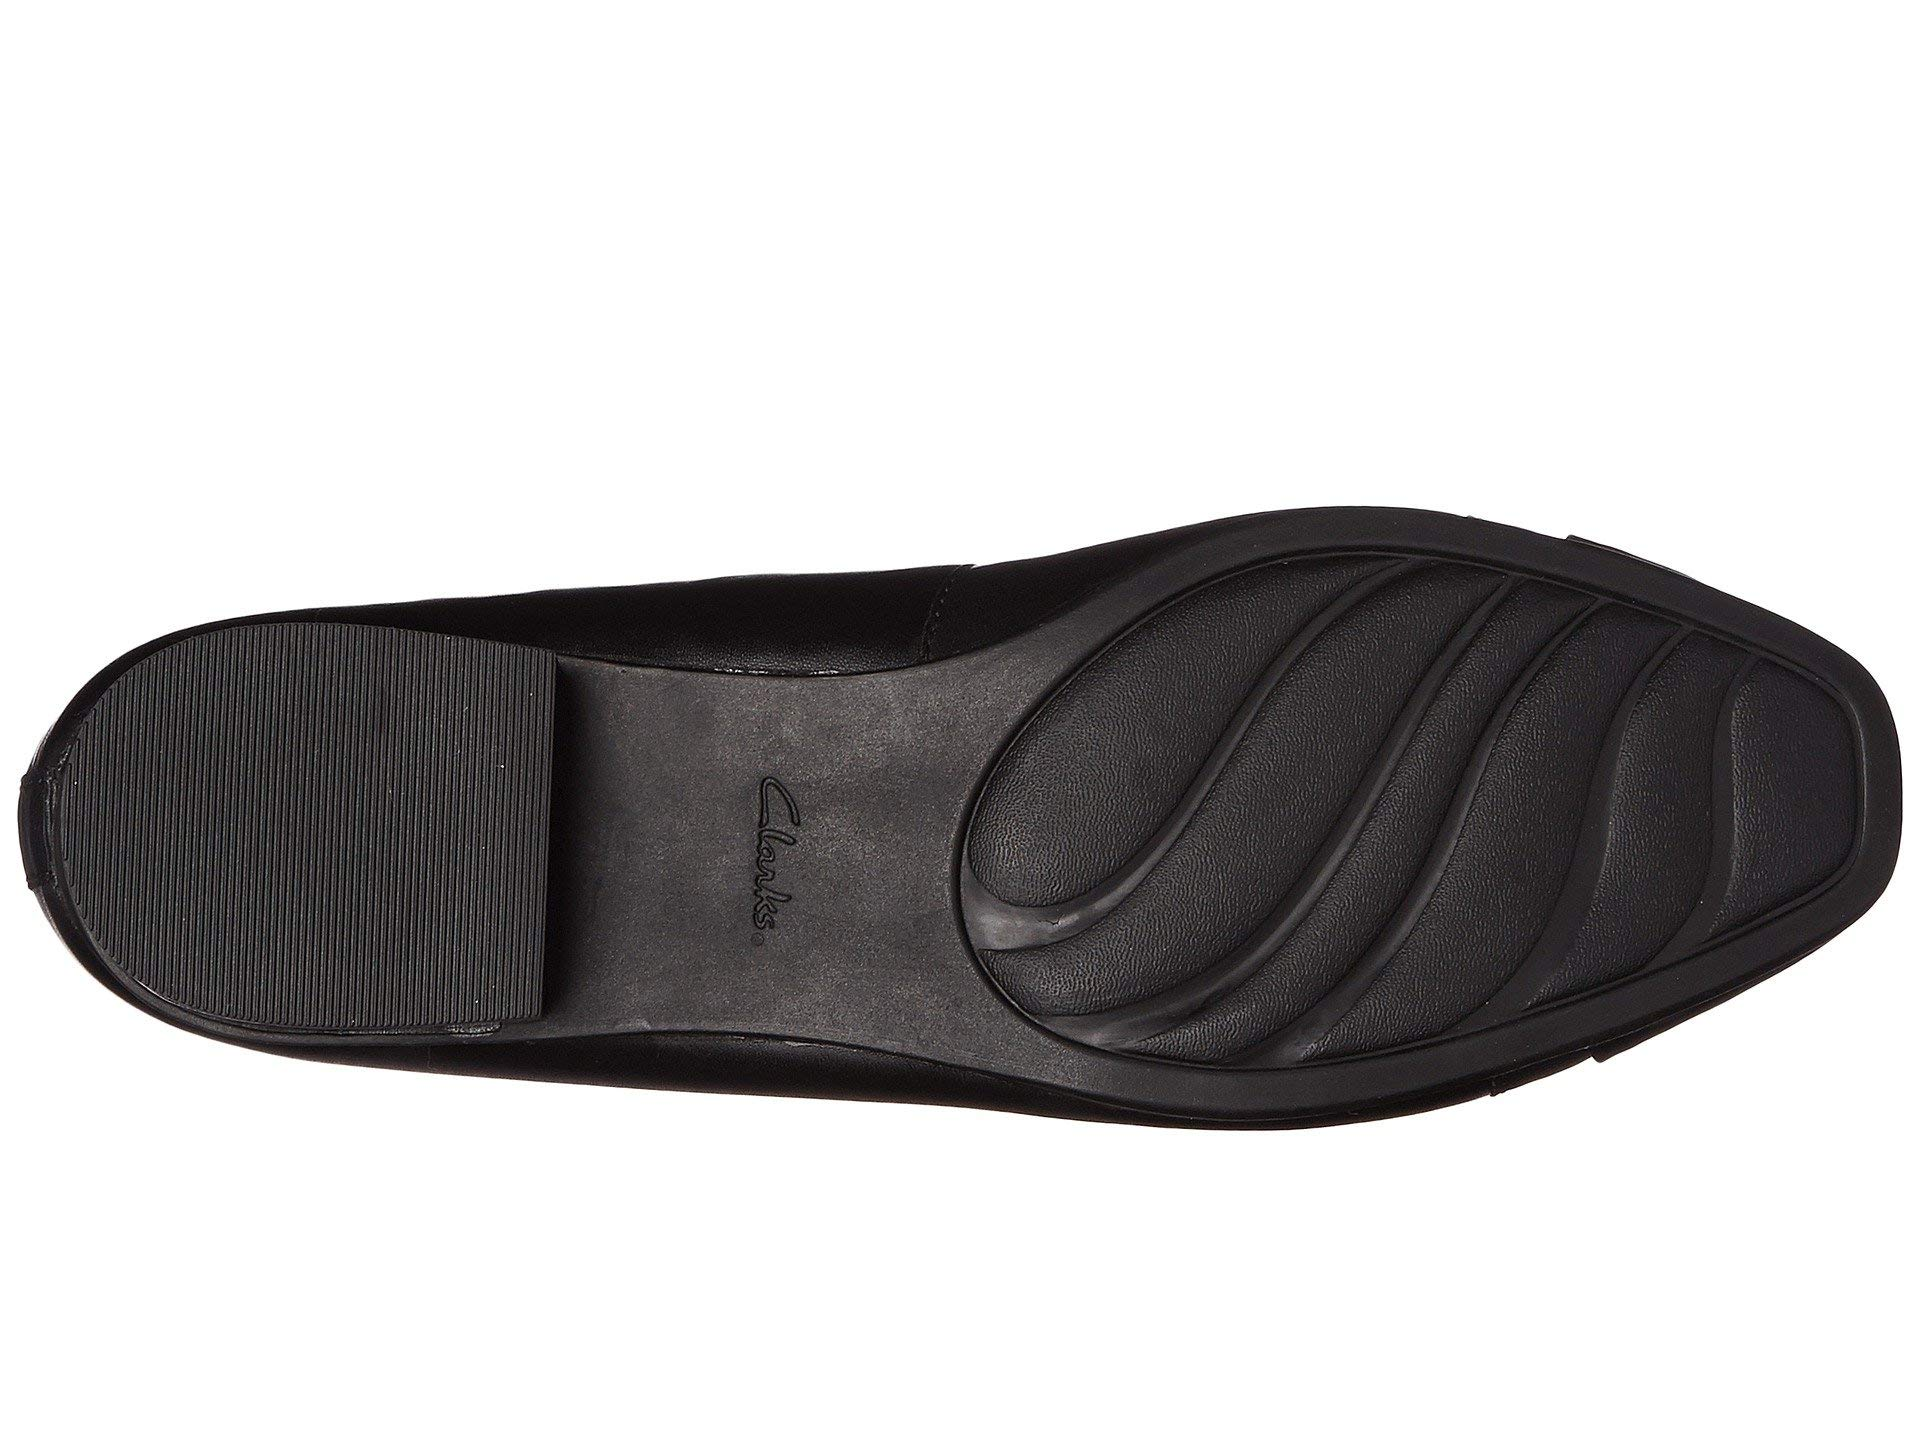line: (1622, 641, 1867, 956), (165, 696, 457, 914)
quad: (1622, 641, 1867, 956)
text: (711, 741, 821, 973)
